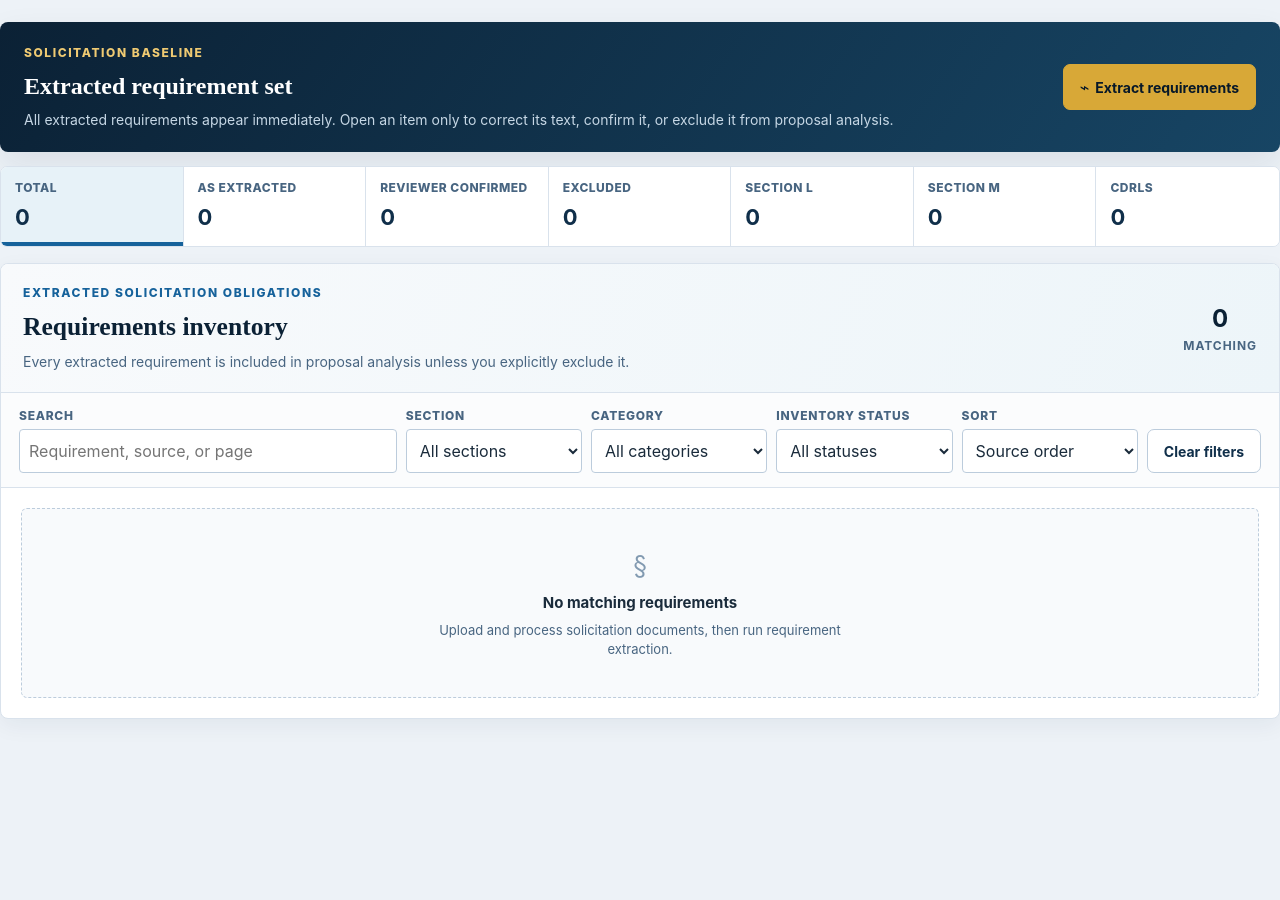
it: RequirementsWorkspace › runs extraction, reloads registers, and reports the exact summary
The width and height of the screenshot is (1280, 900).
Expected: the heading "Requirements inventory" is shown, [23, 312, 288, 341]
Click the button "⌁Extract requirements" at [1159, 87], box [1063, 64, 1256, 110]
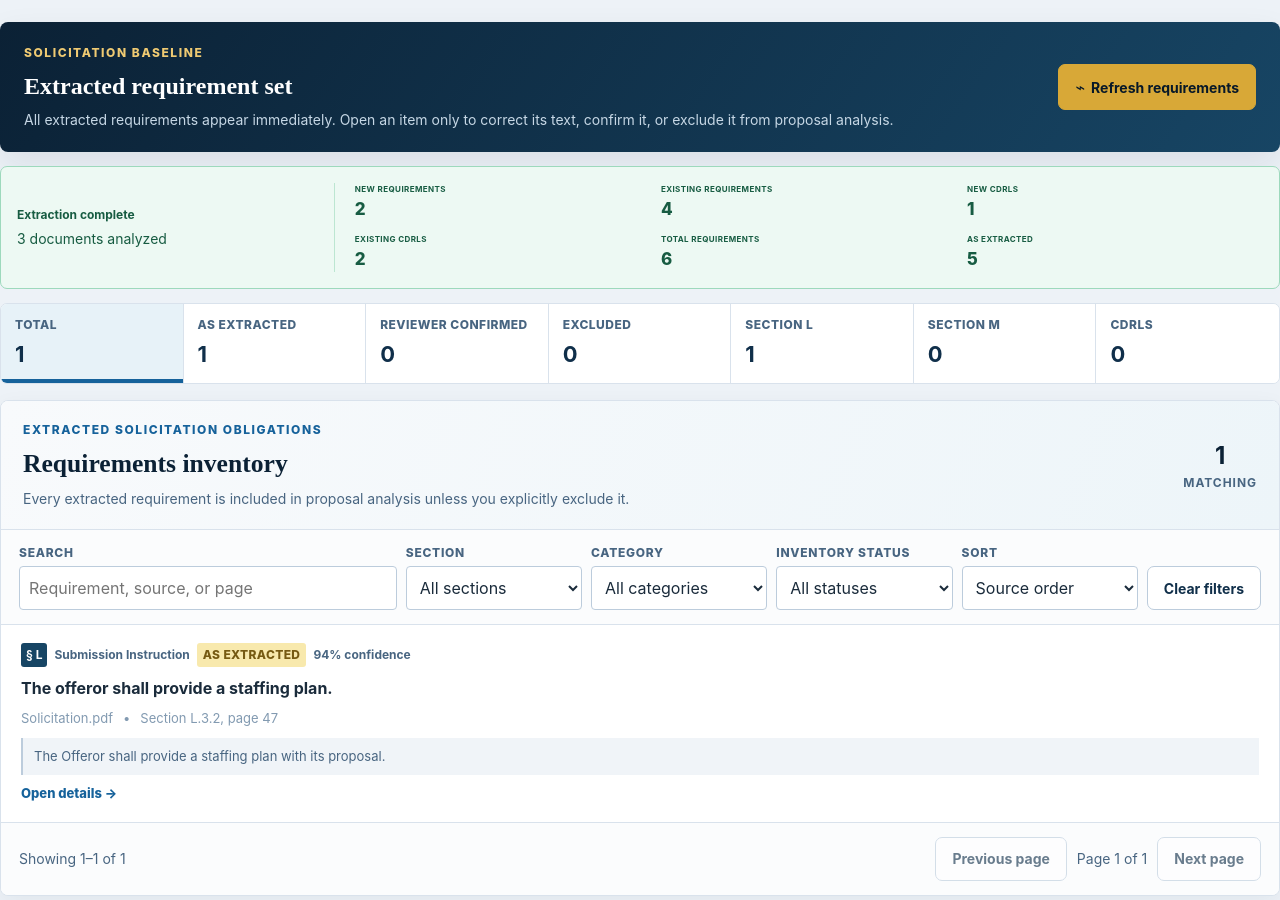
Expected: the text "3 documents analyzed" is shown, [17, 230, 167, 247]
Expected: the text "4" is shown, [661, 199, 673, 219]
Expected: the text "1" below "New CDRLs" is shown, [967, 199, 974, 219]
